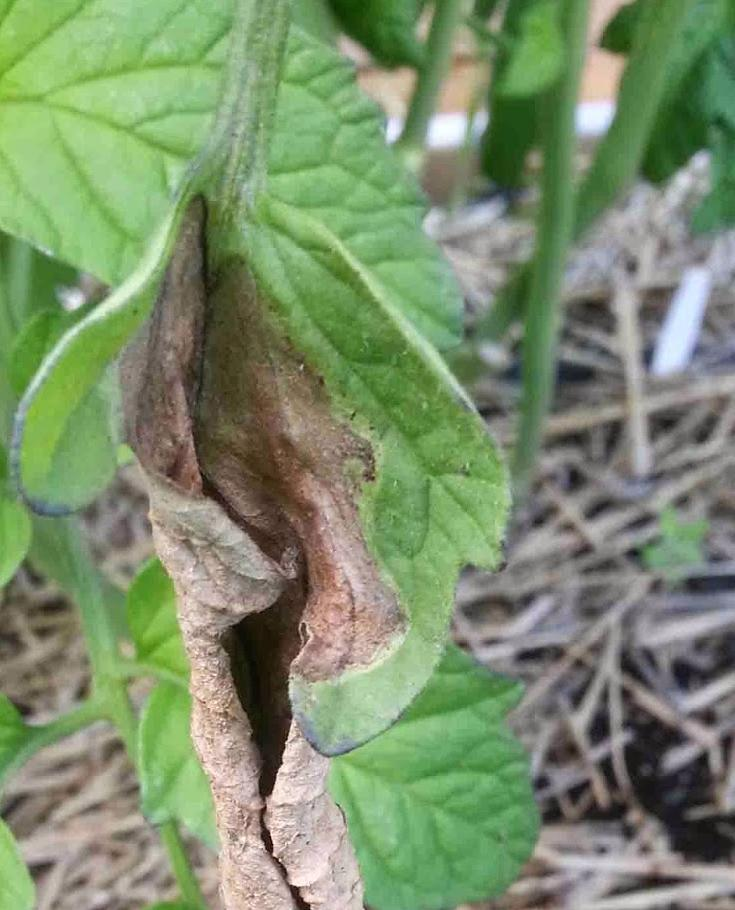Tomato leaf late blight: (37, 139, 505, 910)
